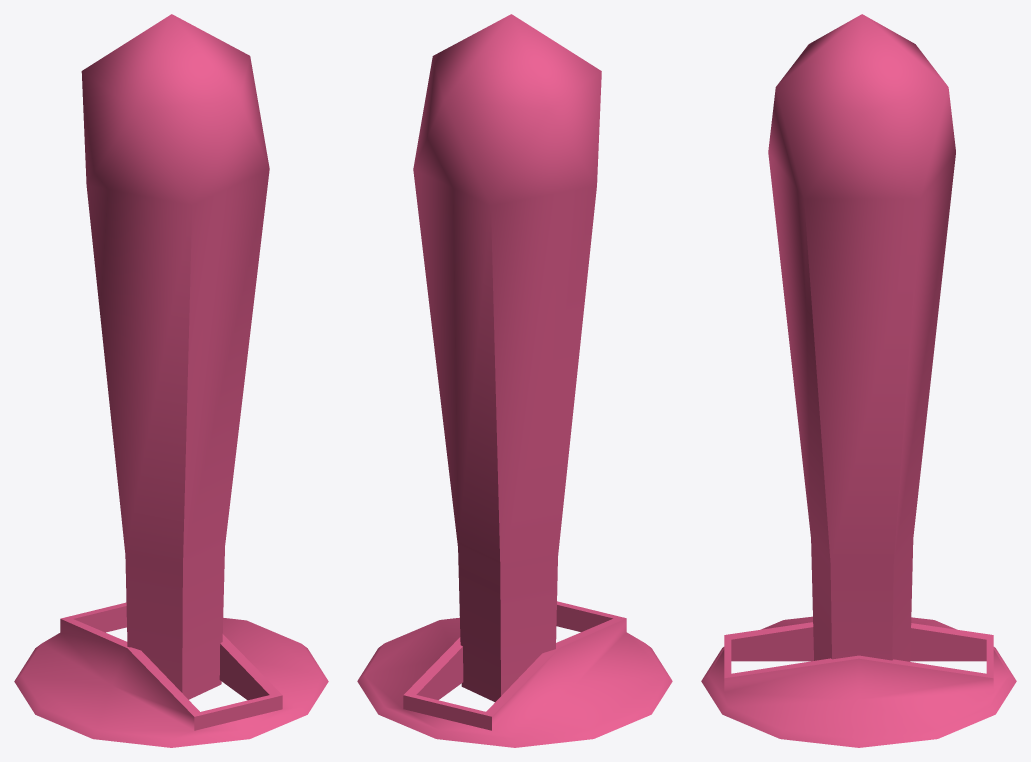
The model's file is Switch1.fbx.
3 renders of one model, left to right at view 1: azimuth 30°, elevation 25°; view 2: azimuth 150°, elevation 25°; view 3: azimuth 270°, elevation 25°, orthographic.
Visible parts, largest first — view 1: Switch1Handle, Switch1Base; view 2: Switch1Handle, Switch1Base; view 3: Switch1Handle, Switch1Base.
Part boxes in pixels (bbox=[...]): Switch1Handle: bbox=[81, 14, 269, 699]; Switch1Base: bbox=[14, 602, 328, 747]; Switch1Handle: bbox=[413, 14, 601, 701]; Switch1Base: bbox=[357, 601, 672, 747]; Switch1Handle: bbox=[768, 14, 955, 661]; Switch1Base: bbox=[701, 616, 1016, 747].
Size of the model in its own units: 1.36 by 3.19 by 1.36.
